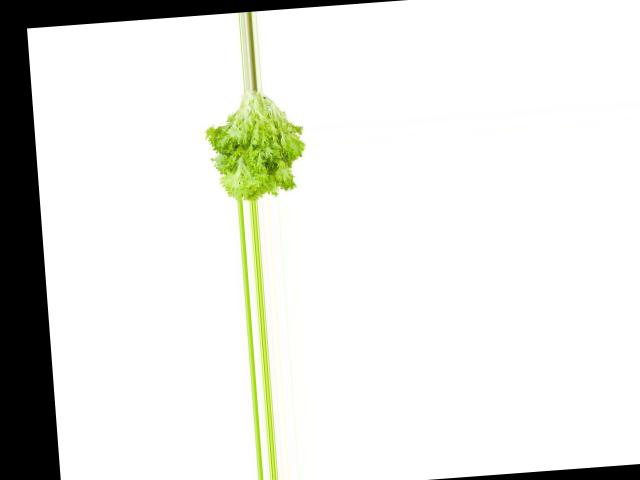lettuce: (201, 84, 313, 203)
